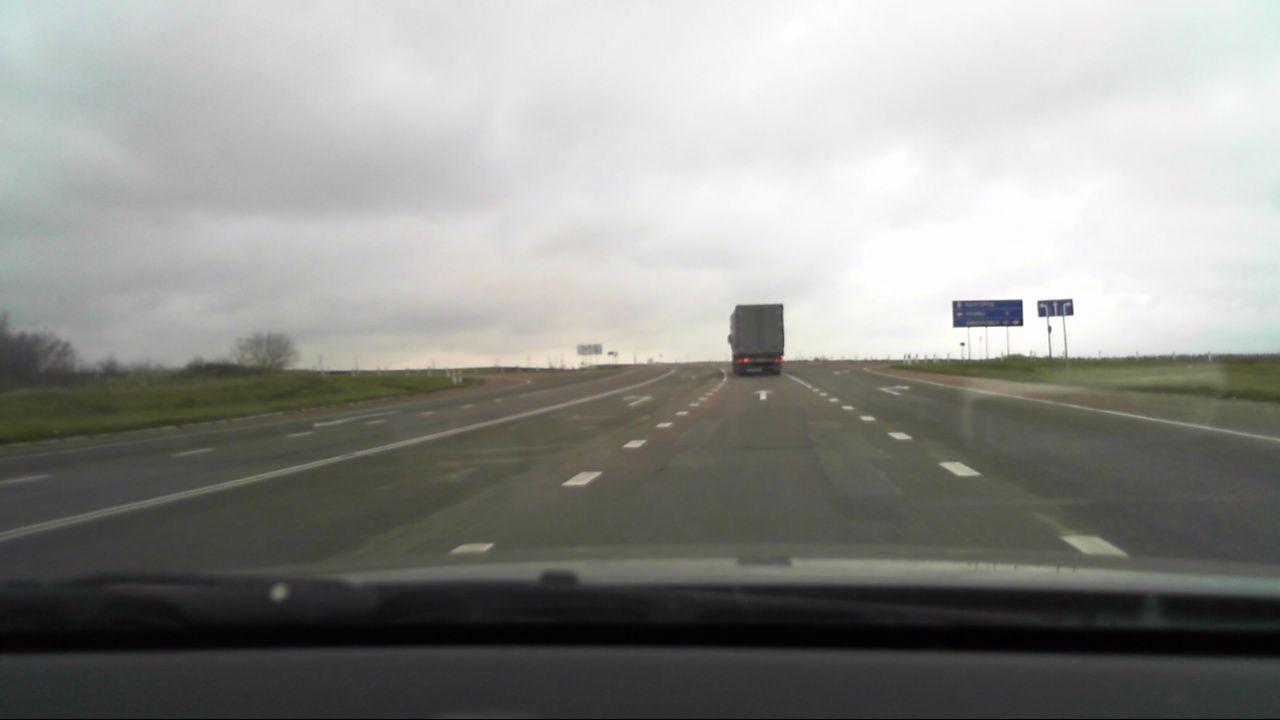5_15_1: (1036, 298, 1073, 318)
6_10_1: (951, 297, 1022, 331)
